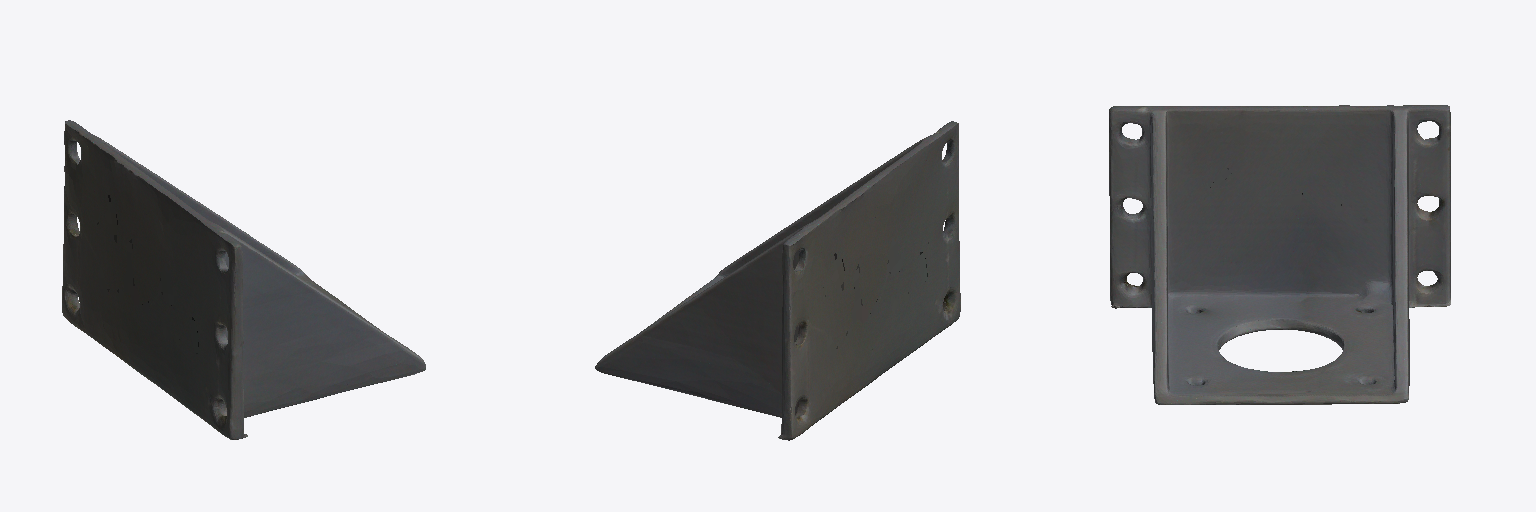
3 renders of one model, left to right at view 1: azimuth 30°, elevation 25°; view 2: azimuth 150°, elevation 25°; view 3: azimuth 270°, elevation 25°, orthographic.
Visible parts, largest first — view 1: nema17_holder; view 2: nema17_holder; view 3: nema17_holder.
Boxes of the visible parts, <box> form: nema17_holder: <box>62,120,425,439</box>; nema17_holder: <box>595,121,960,440</box>; nema17_holder: <box>1109,105,1450,404</box>.
Bounding box in the file's own units: 0.0459 × 0.0398 × 0.0621.
1 materials, 1 textured.